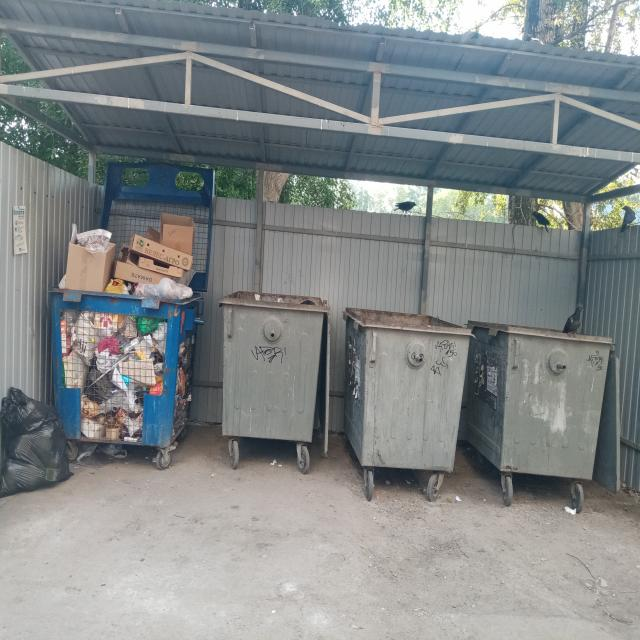bin: (342, 307, 620, 513), (47, 287, 204, 470), (218, 291, 331, 474), (99, 162, 215, 292)
plastic: (60, 308, 168, 442), (58, 213, 197, 300), (0, 386, 74, 498), (172, 333, 196, 440), (77, 441, 127, 460), (564, 506, 577, 515), (300, 300, 316, 305)
